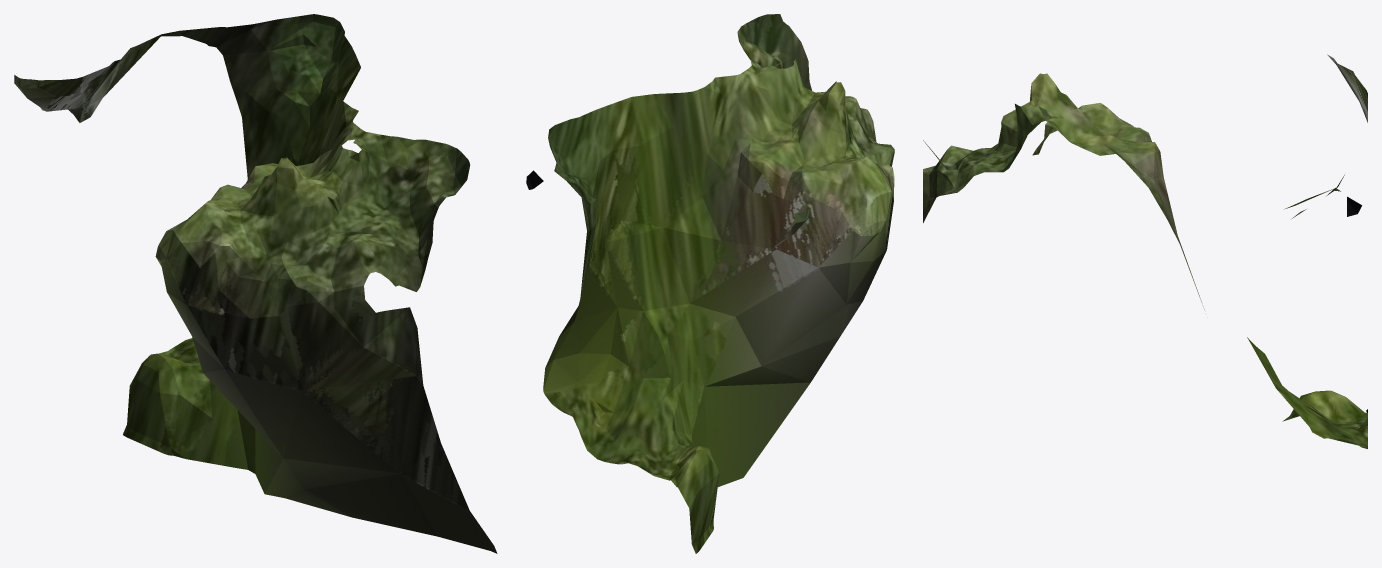
The picture shows the model from 3 angles, left to right: view 1: azimuth 30°, elevation 25°; view 2: azimuth 150°, elevation 25°; view 3: azimuth 270°, elevation 25°; orthographic projection. The views are drawn at different scales.
Bounding box in the file's own units: 2.41 × 2.95 × 2.95.
Materials: 4 (4 with a texture image).
